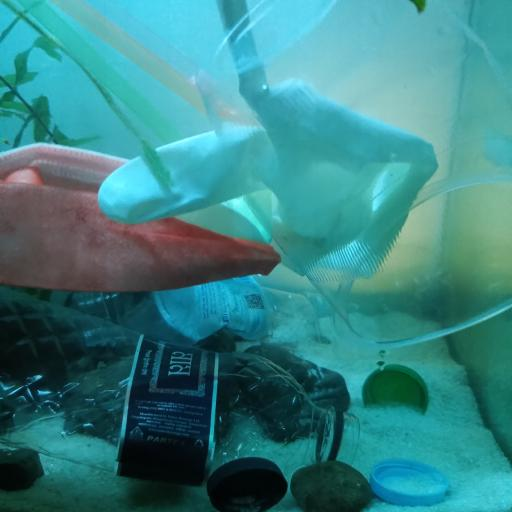bottle_cap: (205, 453, 290, 511), (374, 463, 451, 508), (365, 360, 430, 412)
glove: (101, 77, 438, 282)
mask: (4, 143, 280, 286)
plastic_bottle: (2, 286, 359, 486)
plastic_cup: (198, 0, 512, 359)
plastic_straw: (14, 0, 181, 140), (52, 0, 205, 108)
